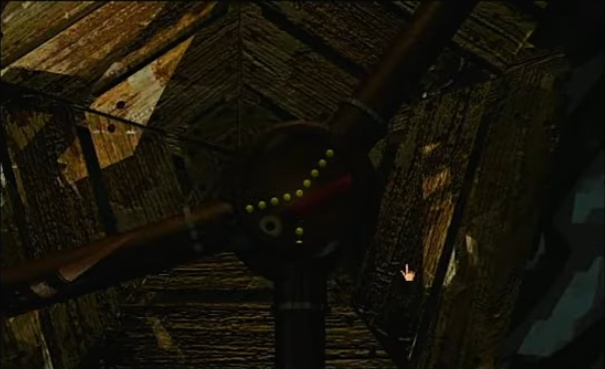Pointer: (398, 260, 419, 283)
